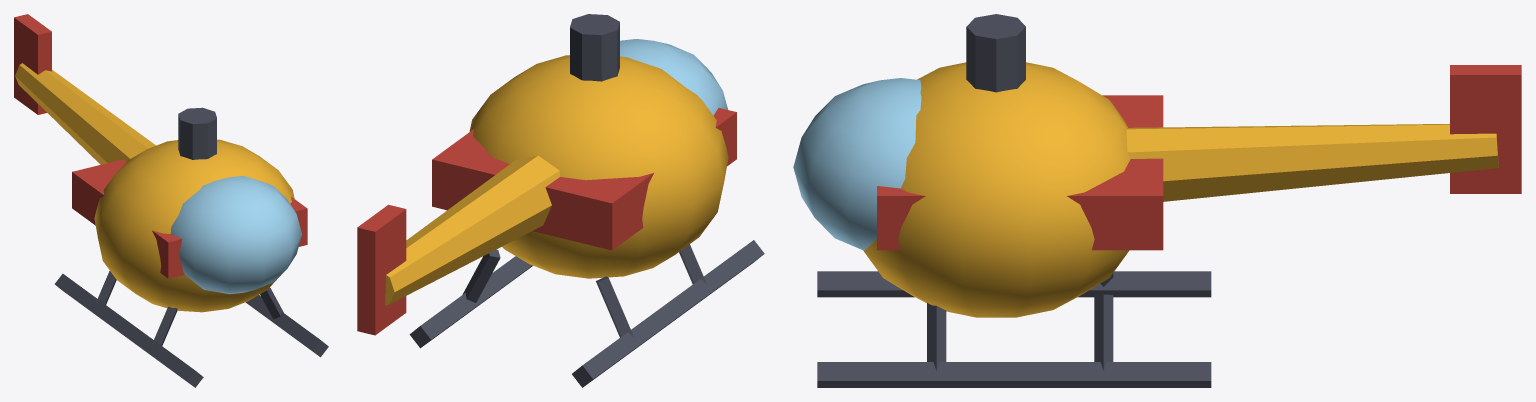
Rendered from oil-refinery.helicopter.glb.
3 views of the same model, side by side, from view 1: azimuth 30°, elevation 25°; view 2: azimuth 150°, elevation 25°; view 3: azimuth 270°, elevation 25° (orthographic). The views are drawn at different scales.
Visible parts, largest first — view 1: model; view 2: model; view 3: model.
Part boxes in pixels (x1,y1,x2,y2): model: (14, 14, 328, 387); model: (357, 14, 764, 387); model: (793, 14, 1521, 387).
Bounding box in the file's own units: 0.2535 × 0.292 × 0.61.
Materials: 1 (1 with a texture image).
